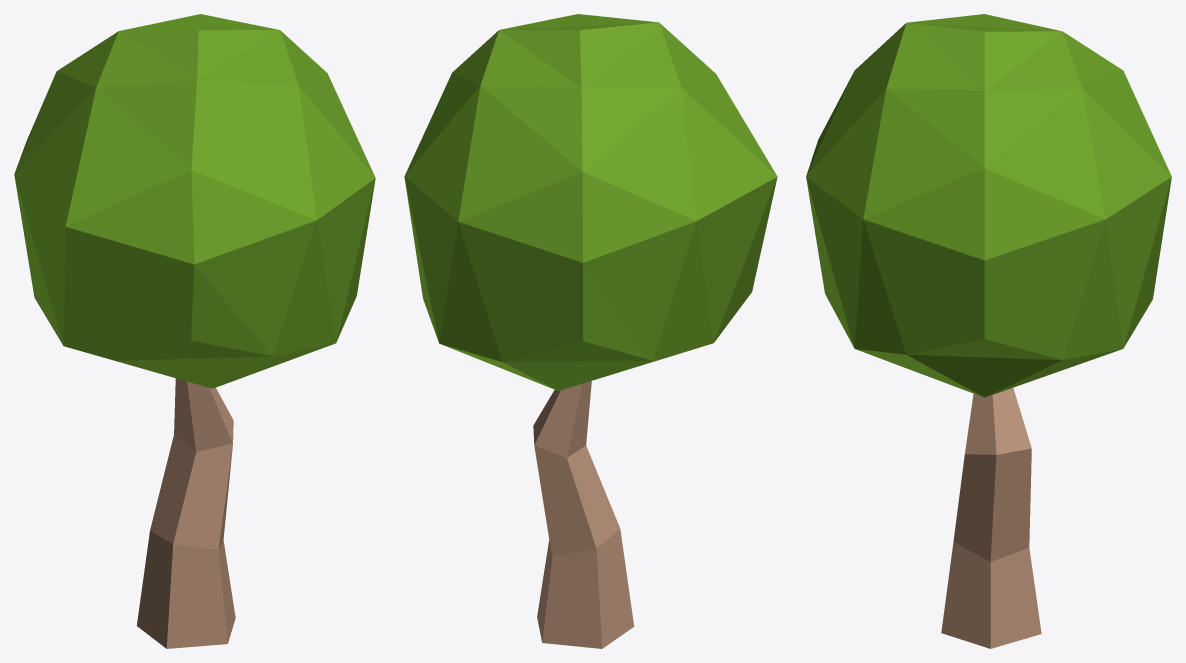
The model's file is SM_Tree_01.fbx.
3 renders of one model, left to right at view 1: azimuth 30°, elevation 25°; view 2: azimuth 150°, elevation 25°; view 3: azimuth 270°, elevation 25°, orthographic.
Parts seen in each view (by area): view 1: SM_Tree_01; view 2: SM_Tree_01; view 3: SM_Tree_01.
Part boxes in pixels (<box>): SM_Tree_01: <box>14,14,375,648</box>; SM_Tree_01: <box>404,14,777,648</box>; SM_Tree_01: <box>806,14,1171,648</box>.
Size of the model in its own units: 285 by 502 by 278.
Materials: 2 (2 with a texture image).
